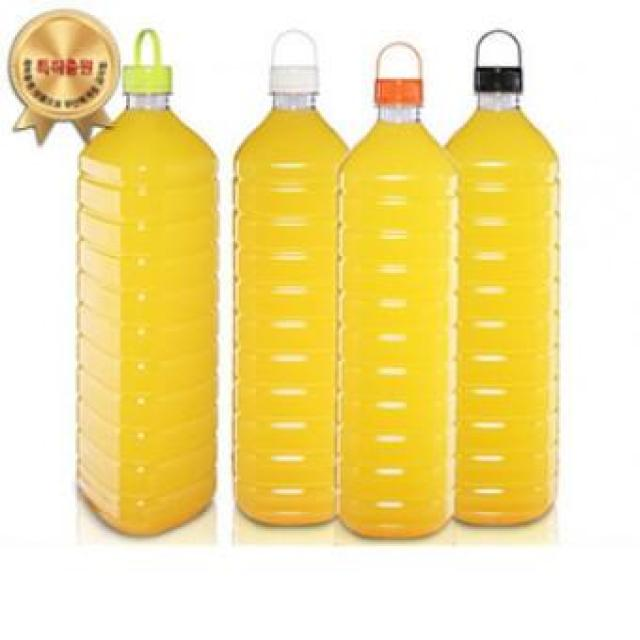bottle: (75, 26, 218, 536), (334, 41, 466, 536), (456, 30, 570, 527), (229, 30, 341, 529)
